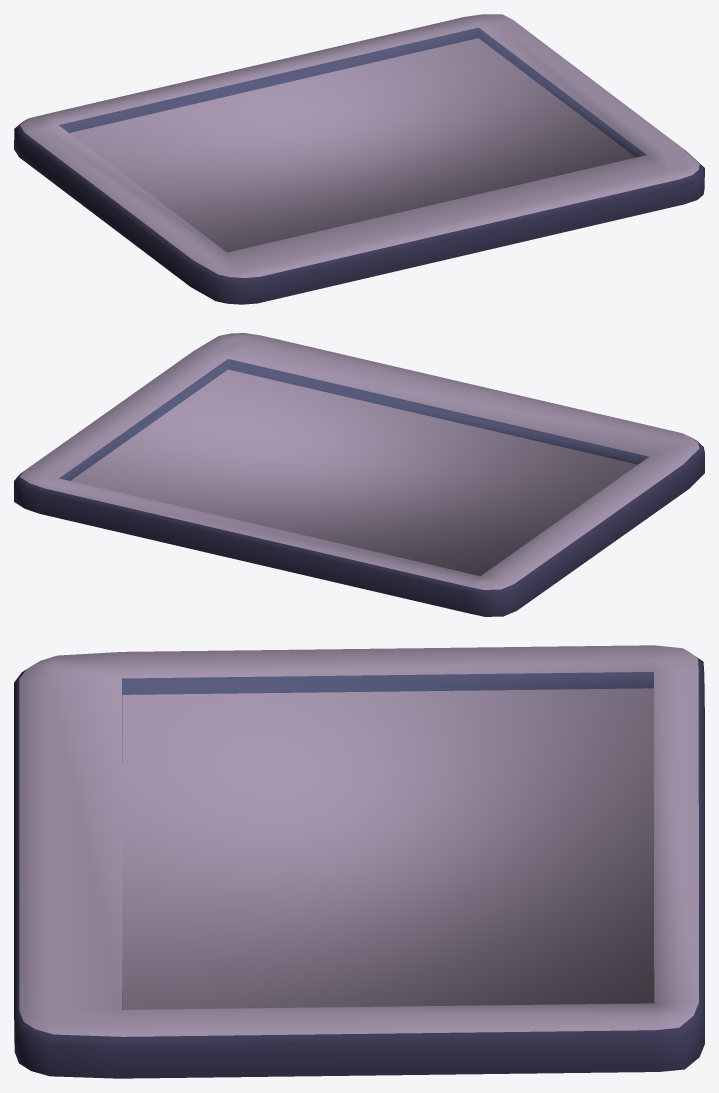
The model's file is hotplate_base.fbx.
The picture shows the model from 3 angles, top to bottom: view 1: azimuth 30°, elevation 25°; view 2: azimuth 150°, elevation 25°; view 3: azimuth 270°, elevation 25°; orthographic projection. The views are drawn at different scales.
Parts seen in each view (by area): view 1: hotplate_base; view 2: hotplate_base; view 3: hotplate_base.
Part boxes in pixels (x1,y1,x2,y2): hotplate_base: [14, 14, 704, 304]; hotplate_base: [14, 333, 704, 616]; hotplate_base: [14, 645, 704, 1078].
Bounding box in the file's own units: 191 × 12.89 × 146.
